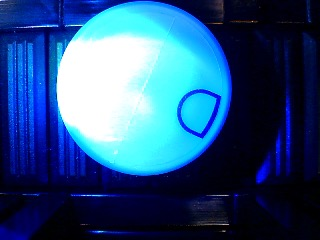MIPO1: (55, 1, 232, 177)
